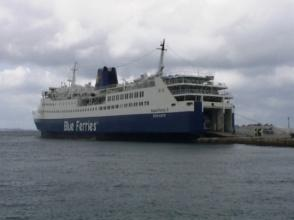youlun: (27, 43, 228, 138)
